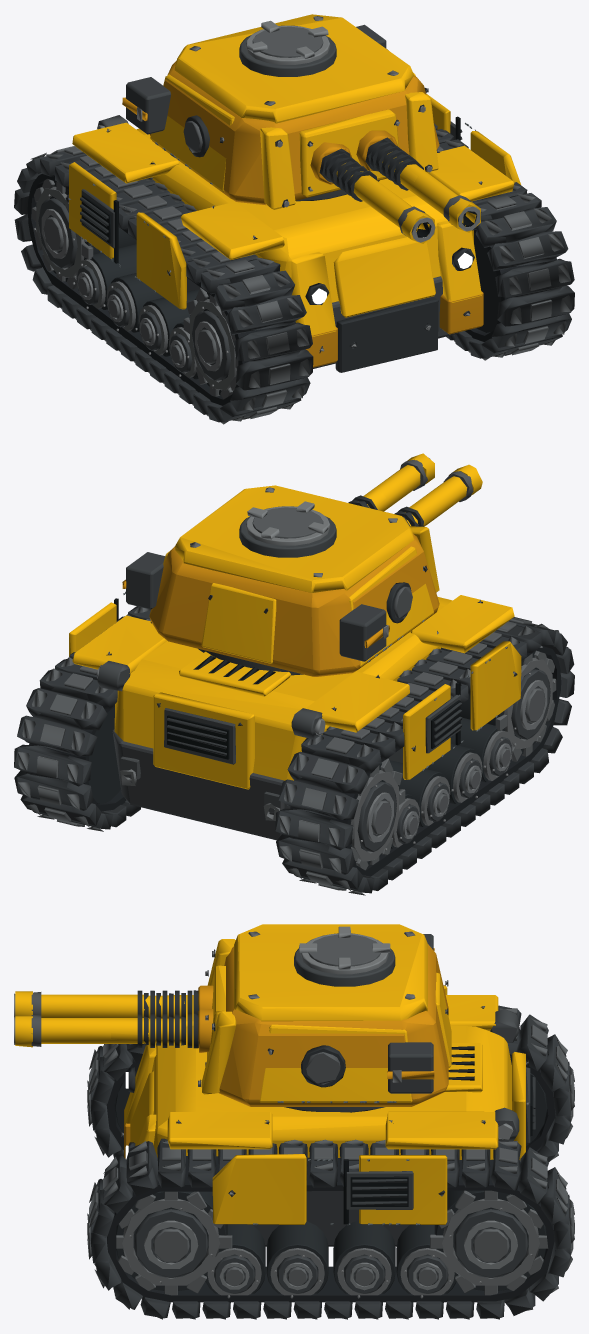
Rendered from tank.glb.
3 renders of one model, top to bottom at view 1: azimuth 30°, elevation 25°; view 2: azimuth 150°, elevation 25°; view 3: azimuth 270°, elevation 25°, orthographic. The views are drawn at different scales.
Visible parts, largest first — view 1: Hull, Turret, TrackLeft, TrackRight, Barrel, Hatch, WheelLeft6, WheelLeft1, WheelLeft5, WheelLeft3, WheelLeft4, WheelRight1 (+1 smaller); view 2: Hull, Turret, TrackLeft, TrackRight, Barrel, Hatch, WheelLeft1, WheelLeft6, WheelLeft2, WheelRight6, WheelLeft4, WheelLeft3 (+1 smaller); view 3: Hull, Turret, TrackRight, Barrel, WheelRight6, WheelRight1, TrackLeft, Hatch, WheelRight4, WheelRight3, WheelRight2, WheelRight5 (+1 smaller).
Part boxes in pixels (x1=…): Hull: x1=27, y1=93, x2=556, y2=405; Turret: x1=122, y1=14, x2=439, y2=209; TrackLeft: x1=14, y1=146, x2=313, y2=424; TrackRight: x1=434, y1=123, x2=574, y2=360; Barrel: x1=324, y1=141, x2=480, y2=243; Hatch: x1=239, y1=20, x2=336, y2=76; WheelLeft6: x1=31, y1=179, x2=136, y2=289; WheelLeft1: x1=183, y1=287, x2=238, y2=399; WheelLeft5: x1=72, y1=244, x2=136, y2=309; WheelLeft3: x1=135, y1=289, x2=198, y2=356; WheelLeft4: x1=103, y1=273, x2=163, y2=332; WheelRight1: x1=474, y1=232, x2=500, y2=333; Hull: x1=29, y1=591, x2=561, y2=876; Turret: x1=122, y1=485, x2=439, y2=676; TrackLeft: x1=275, y1=617, x2=574, y2=895; TrackRight: x1=14, y1=606, x2=150, y2=831; Barrel: x1=348, y1=453, x2=482, y2=526; Hatch: x1=239, y1=501, x2=336, y2=557; WheelLeft1: x1=460, y1=646, x2=556, y2=761; WheelLeft6: x1=350, y1=758, x2=405, y2=870; WheelLeft2: x1=450, y1=717, x2=516, y2=782; WheelRight6: x1=88, y1=707, x2=120, y2=803; WheelLeft4: x1=390, y1=760, x2=453, y2=826; WheelLeft3: x1=425, y1=743, x2=485, y2=803; Hull: x1=106, y1=985, x2=555, y2=1302; Turret: x1=193, y1=924, x2=451, y2=1106; TrackRight: x1=87, y1=1138, x2=574, y2=1319; Barrel: x1=14, y1=990, x2=192, y2=1047; WheelRight6: x1=430, y1=1190, x2=548, y2=1295; WheelRight1: x1=116, y1=1191, x2=232, y2=1295; TrackLeft: x1=87, y1=1005, x2=574, y2=1162; Hatch: x1=294, y1=926, x2=395, y2=986; WheelRight4: x1=333, y1=1220, x2=395, y2=1298; WheelRight3: x1=266, y1=1221, x2=328, y2=1298; WheelRight2: x1=204, y1=1224, x2=265, y2=1298; WheelRight5: x1=396, y1=1224, x2=457, y2=1298.
Size of the model in its own units: 1 by 0.7542 by 1.31.
